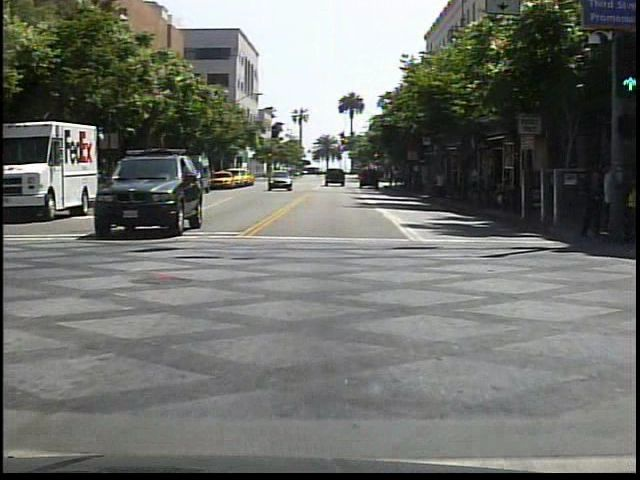person: (575, 154, 606, 241)
